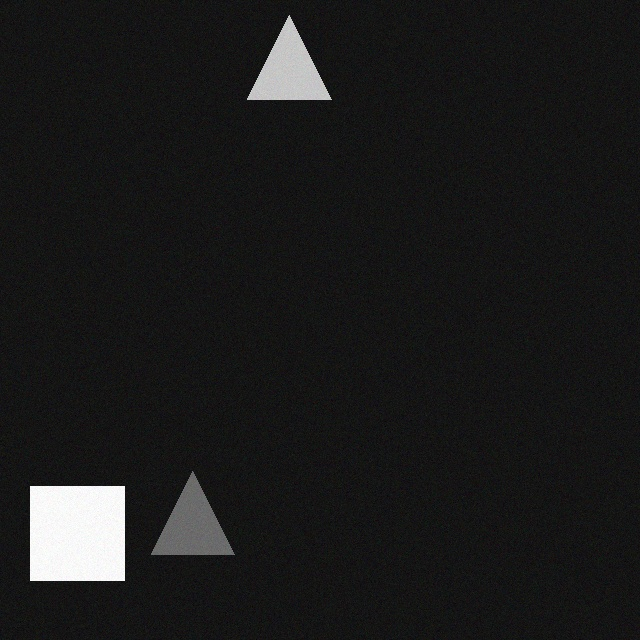square: (29, 487, 123, 581)
triangle: (246, 16, 330, 100), (150, 472, 233, 555)
